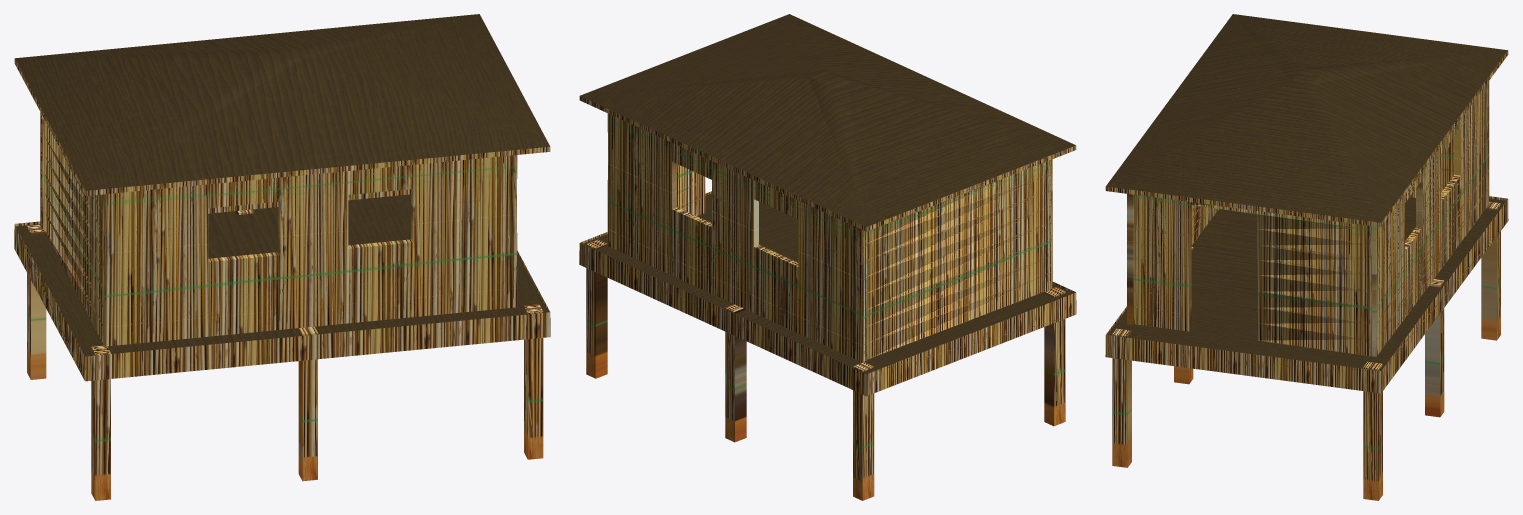
File: cabaña.fbx
3 renders of one model, left to right at view 1: azimuth 30°, elevation 25°; view 2: azimuth 150°, elevation 25°; view 3: azimuth 270°, elevation 25°, orthographic. The views are drawn at different scales.
Parts seen in each view (by area): view 1: house; view 2: house; view 3: house.
Part boxes in pixels (x1=…): house: x1=14, y1=14, x2=550, y2=500; house: x1=579, y1=14, x2=1076, y2=500; house: x1=1105, y1=14, x2=1508, y2=500.
Bounding box in the file's own units: 3547 × 2556 × 2891.
Materials: 2 (2 with a texture image).
